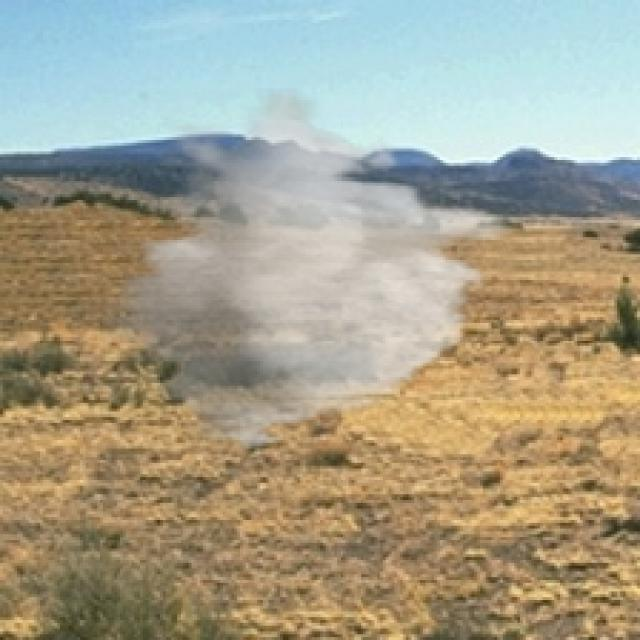Smoke: (92, 88, 514, 454)
